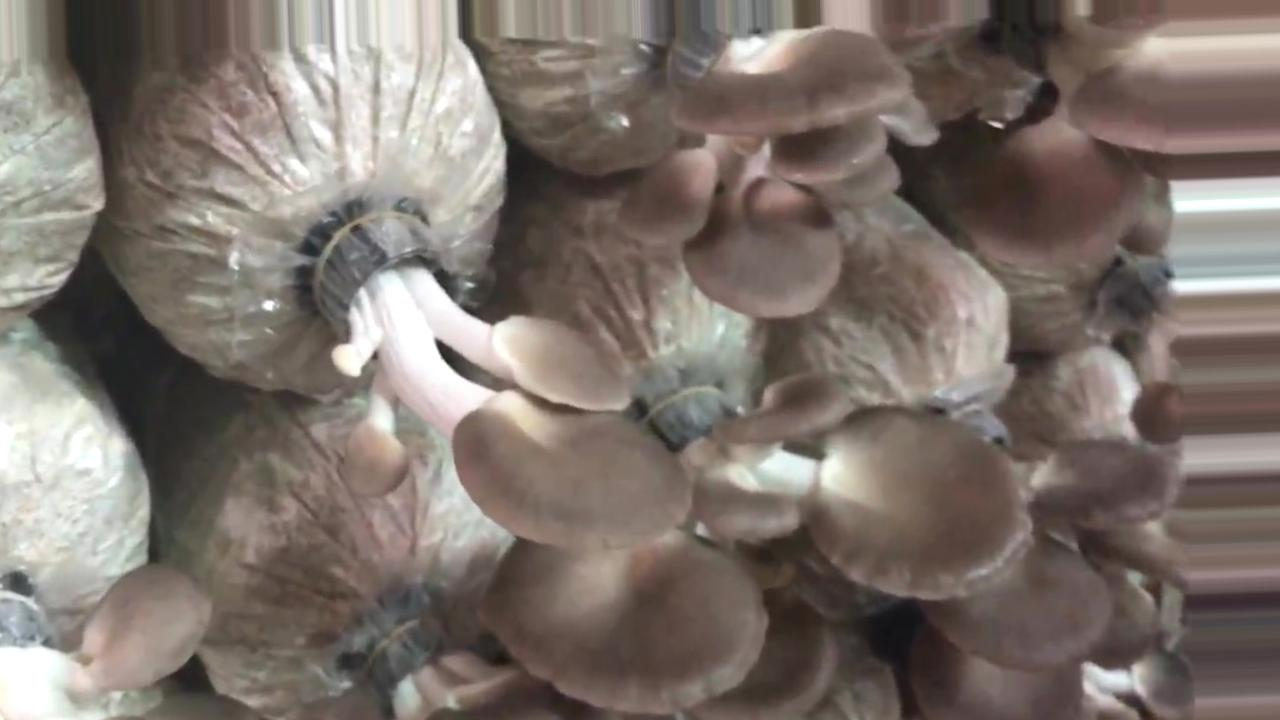nam: (488, 377, 1034, 705), (306, 199, 695, 557), (614, 10, 936, 325)
